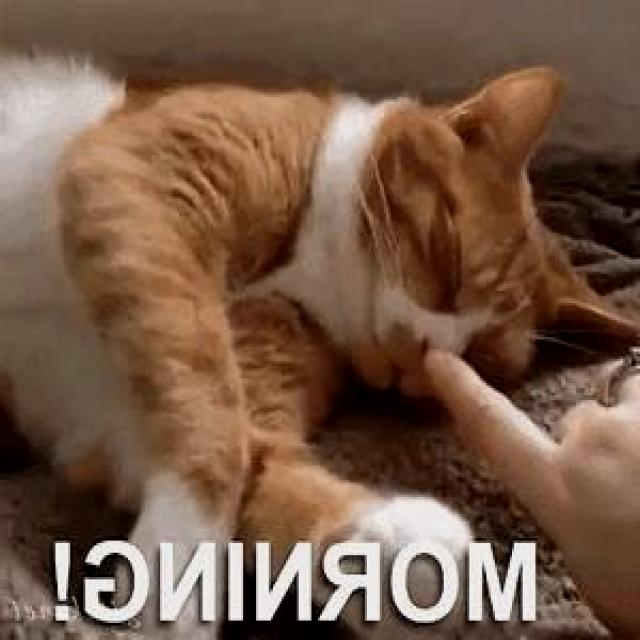KEDI: (42, 59, 630, 527)
